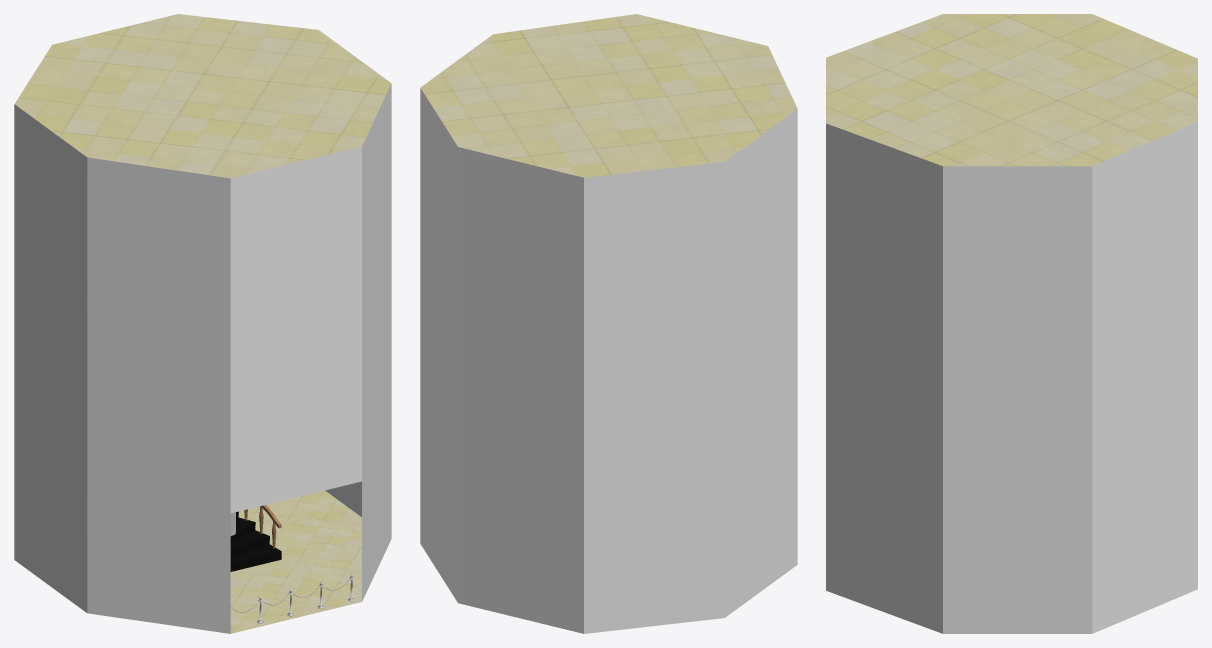
The model's file is mirai2.fbx.
The picture shows the model from 3 angles, left to right: view 1: azimuth 30°, elevation 25°; view 2: azimuth 150°, elevation 25°; view 3: azimuth 270°, elevation 25°; orthographic projection. The views are drawn at different scales.
Visible parts, largest first — view 1: 平面.012, 円柱, 平面.013; view 2: 平面.012; view 3: 平面.012.
Part boxes in pixels (x1=…): 平面.012: x1=14, y1=14, x2=391, y2=633; 円柱: x1=230, y1=505, x2=281, y2=571; 平面.013: x1=230, y1=512, x2=354, y2=630; 平面.012: x1=420, y1=14, x2=797, y2=633; 平面.012: x1=826, y1=14, x2=1197, y2=633.
Bounding box in the file's own units: 925 × 1326 × 954.
